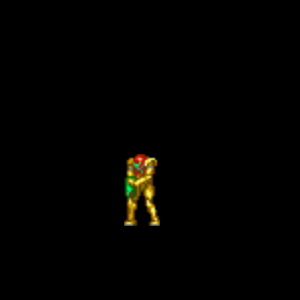Collectible: (124, 154, 160, 226)
